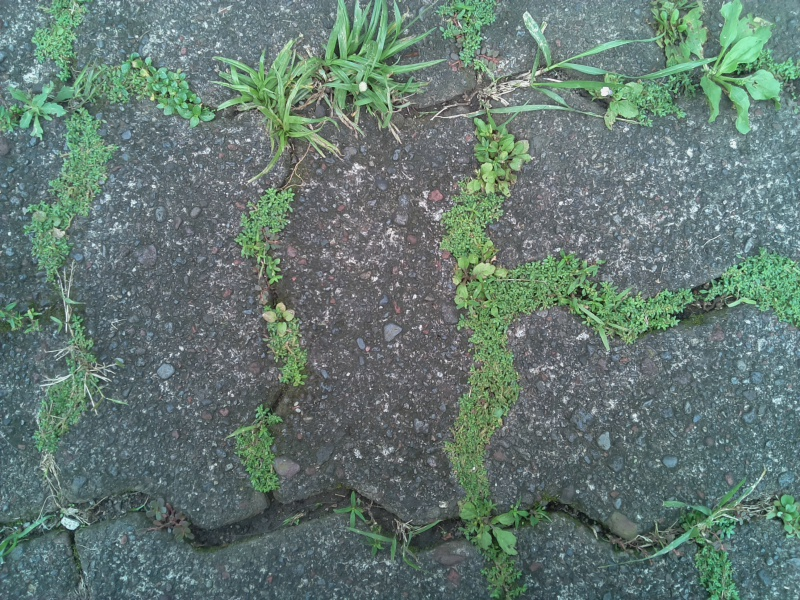Weed: (439, 273, 522, 508), (24, 111, 111, 272), (681, 5, 781, 135), (310, 8, 418, 128), (567, 265, 693, 363), (219, 53, 321, 163), (518, 13, 629, 108), (701, 246, 800, 339), (32, 325, 100, 456), (667, 491, 747, 600), (235, 185, 313, 285), (118, 51, 213, 133), (463, 118, 538, 204), (595, 70, 691, 137), (438, 182, 500, 279), (222, 405, 284, 497), (429, 3, 503, 80), (260, 301, 307, 391), (456, 497, 522, 559), (31, 1, 86, 72), (367, 514, 442, 566), (5, 508, 85, 550), (8, 84, 62, 132), (768, 492, 800, 535), (336, 492, 374, 528)
